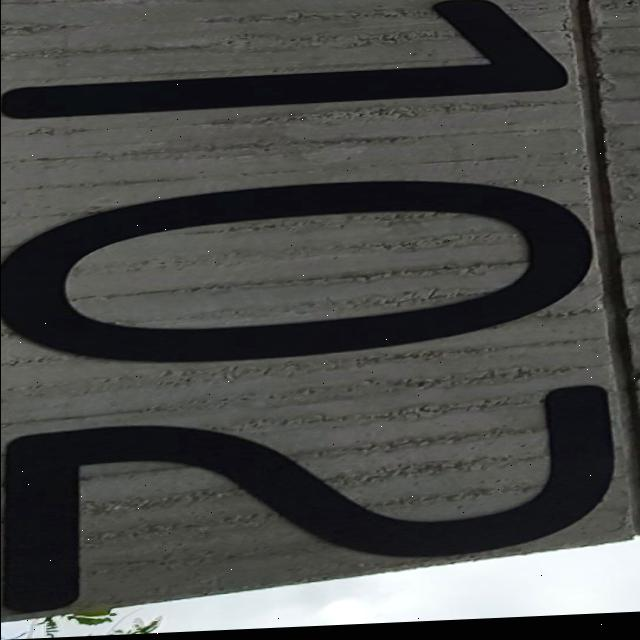character: (0, 377, 624, 619), (0, 165, 600, 376), (0, 0, 580, 126)
